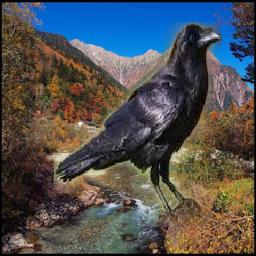Crow: (54, 23, 222, 228)
